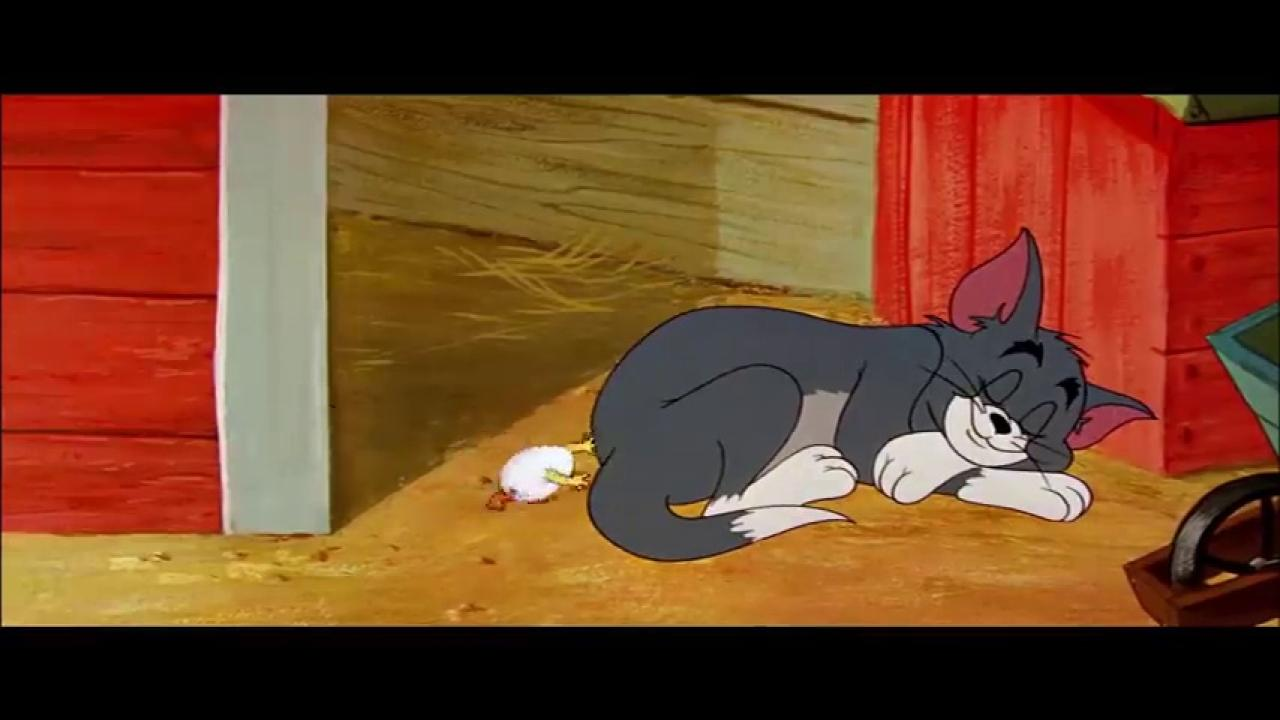Tom: (585, 226, 1161, 564)
